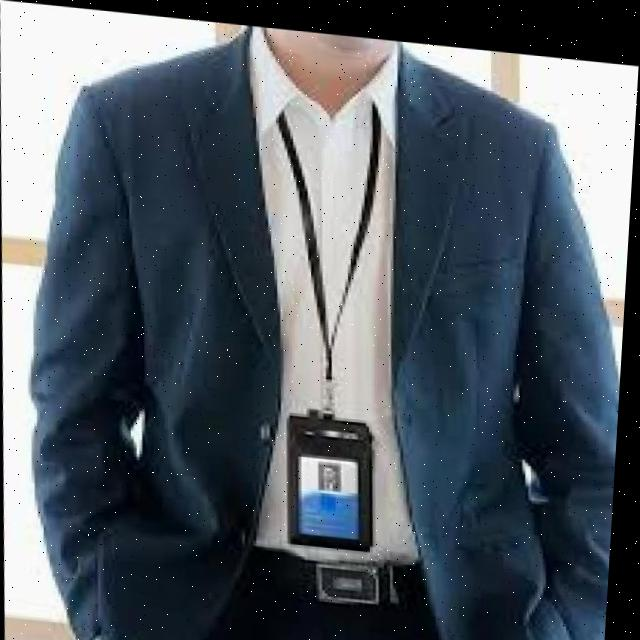id_card: (243, 93, 421, 557)
